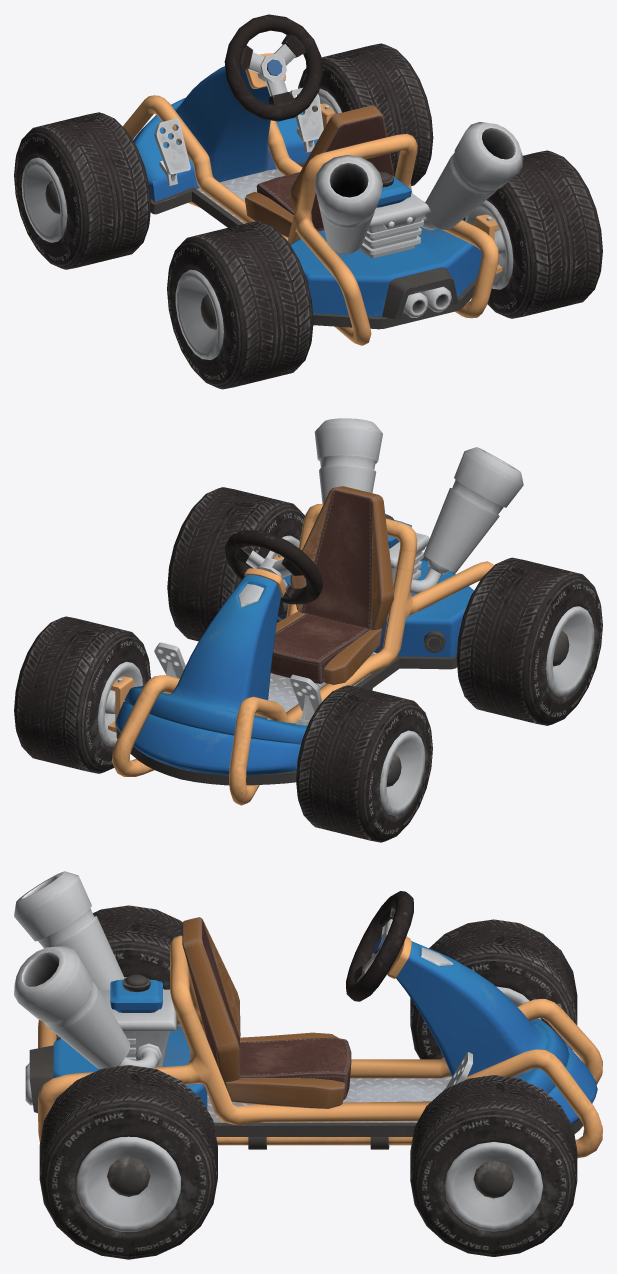
The picture shows the model from 3 angles, top to bottom: view 1: azimuth 30°, elevation 25°; view 2: azimuth 150°, elevation 25°; view 3: azimuth 270°, elevation 25°; orthographic projection. The views are drawn at different scales.
Visible parts, largest first — view 1: tire_front_low.001, tire_front_low, frame_front_low, exhaust_top_low, body_back_low, monocoque_low, steering_wheel_low, wheel_back_low, bottom_plate_low, seat_back_low, nose_low, wheel_front_low (+9 smaller); view 2: tire_front_low, tire_front_low.001, exhaust_top_low, frame_front_low, seat_back_low, nose_low, monocoque_low, seat_bottom_low, wheel_front_low, bottom_plate_low, body_back_low, steering_wheel_low (+4 smaller); view 3: tire_front_low, tire_front_low.001, frame_front_low, exhaust_top_low, monocoque_low, wheel_back_low, wheel_front_low, bottom_plate_low, seat_back_low, seat_bottom_low, steering_wheel_low, seat_bottom_support_low (+8 smaller).
Boxes of the visible parts, bbox=[...] form: tire_front_low.001: bbox=[167, 150, 602, 389]; tire_front_low: bbox=[14, 43, 433, 269]; frame_front_low: bbox=[123, 95, 498, 345]; exhaust_top_low: bbox=[314, 122, 523, 254]; body_back_low: bbox=[290, 219, 481, 316]; monocoque_low: bbox=[174, 66, 271, 182]; steering_wheel_low: bbox=[224, 14, 322, 121]; wheel_back_low: bbox=[175, 200, 513, 360]; bottom_plate_low: bbox=[150, 162, 477, 329]; seat_back_low: bbox=[290, 105, 393, 229]; nose_low: bbox=[133, 98, 318, 201]; wheel_front_low: bbox=[21, 88, 341, 242]; tire_front_low: bbox=[14, 616, 432, 842]; tire_front_low.001: bbox=[167, 487, 602, 725]; exhaust_top_low: bbox=[314, 418, 523, 573]; frame_front_low: bbox=[112, 504, 494, 805]; seat_back_low: bbox=[290, 486, 393, 629]; nose_low: bbox=[115, 686, 307, 775]; monocoque_low: bbox=[165, 575, 281, 719]; seat_bottom_low: bbox=[270, 614, 369, 683]; wheel_front_low: bbox=[97, 661, 425, 815]; bottom_plate_low: bbox=[116, 616, 457, 785]; body_back_low: bbox=[278, 559, 473, 657]; steering_wheel_low: bbox=[225, 530, 322, 604]; tire_front_low: bbox=[410, 919, 577, 1256]; tire_front_low.001: bbox=[39, 905, 217, 1259]; frame_front_low: bbox=[38, 935, 602, 1158]; exhaust_top_low: bbox=[14, 871, 130, 1069]; monocoque_low: bbox=[396, 941, 548, 1077]; wheel_back_low: bbox=[76, 977, 180, 1231]; wheel_front_low: bbox=[444, 986, 543, 1231]; bottom_plate_low: bbox=[207, 1050, 582, 1136]; seat_back_low: bbox=[182, 917, 240, 1082]; seat_bottom_low: bbox=[224, 1037, 351, 1099]; steering_wheel_low: bbox=[346, 891, 413, 1001]; seat_bottom_support_low: bbox=[225, 1032, 345, 1108].
Bounding box in the file's own units: 115 × 68.98 × 138.
1 material, 1 textured.
